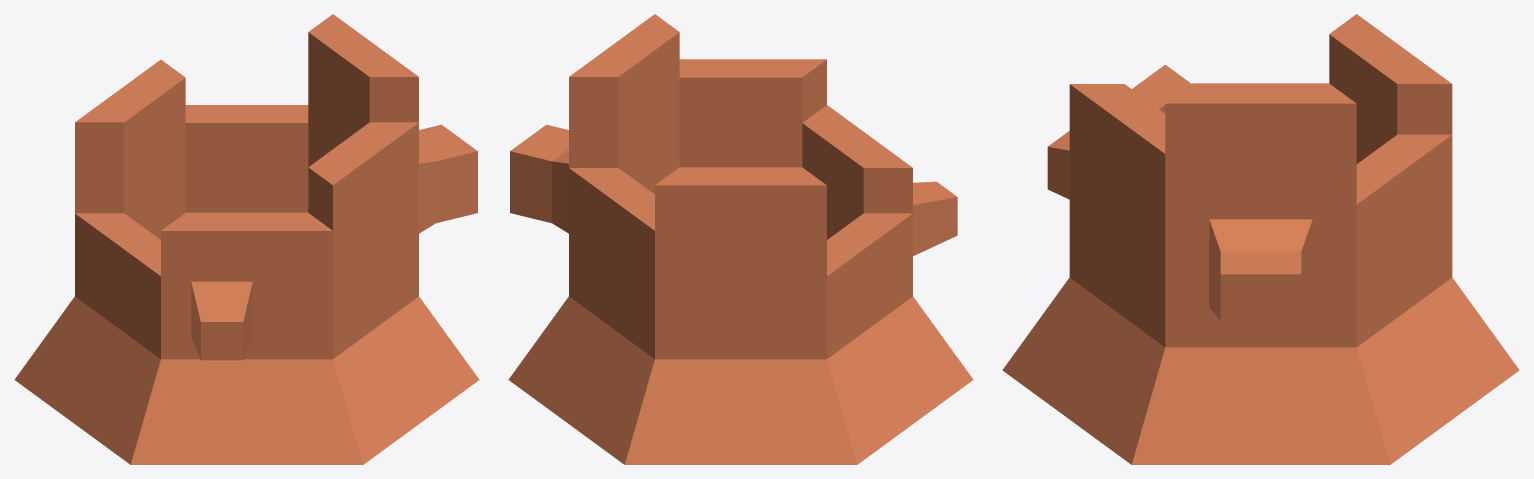
Rendered from stump-old.glb.
The picture shows the model from 3 angles, left to right: view 1: azimuth 30°, elevation 25°; view 2: azimuth 150°, elevation 25°; view 3: azimuth 270°, elevation 25°; orthographic projection. The views are drawn at different scales.
Visible parts, largest first — view 1: stump_old; view 2: stump_old; view 3: stump_old.
Boxes of the visible parts, box(x1,y1,x2,y2) form: stump_old: box(14, 14, 479, 464); stump_old: box(508, 14, 973, 464); stump_old: box(1002, 14, 1519, 464).
Bounding box in the file's own units: 0.3565 × 0.2665 × 0.371.
